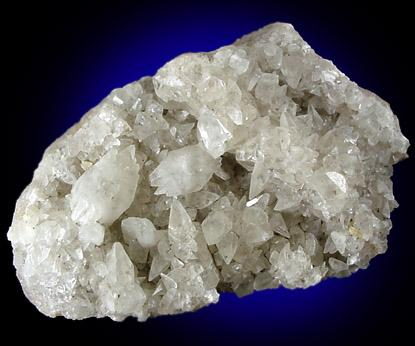calcite: (8, 24, 409, 322)
